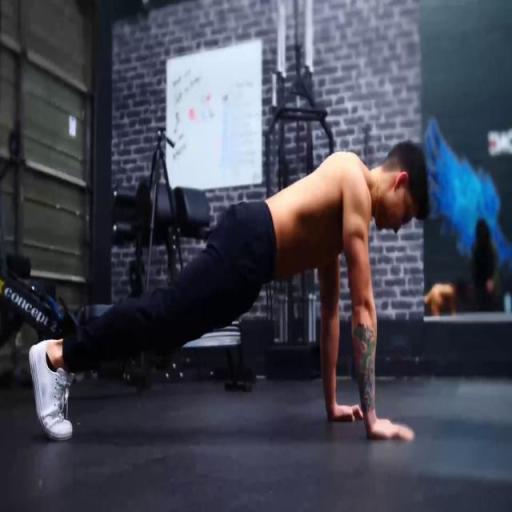Normal_BrenchPress: (28, 138, 431, 443)
